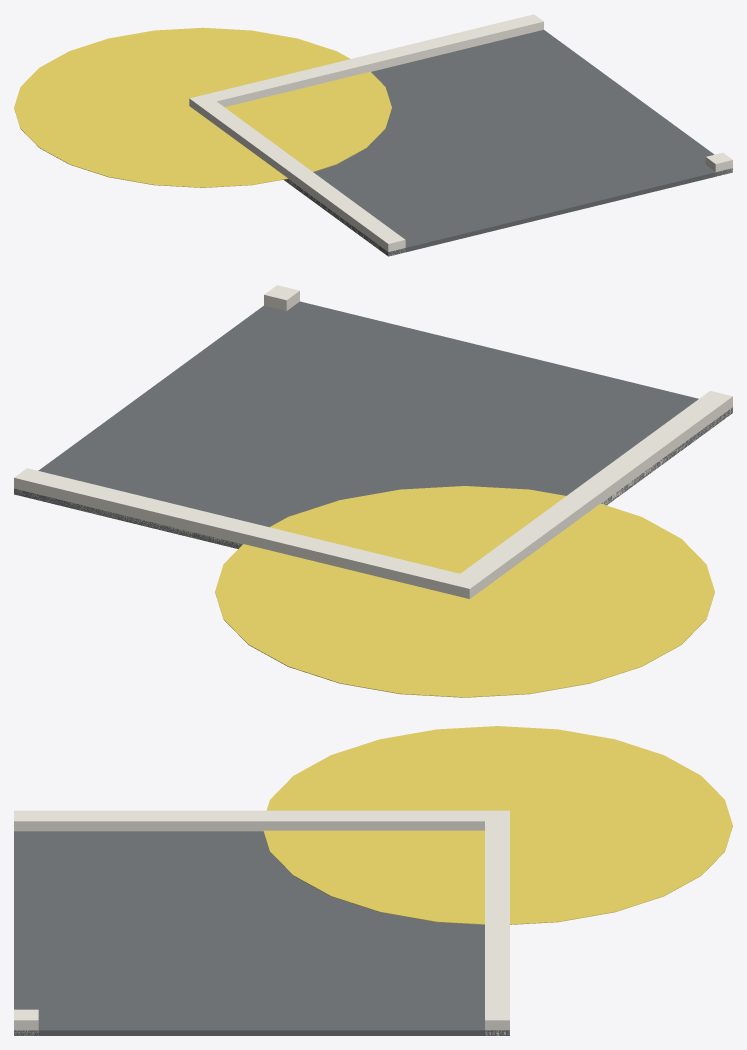
File: ModularRoad_Corner.fbx
3 views of the same model, one above another, from view 1: azimuth 30°, elevation 25°; view 2: azimuth 150°, elevation 25°; view 3: azimuth 270°, elevation 25° (orthographic). The views are drawn at different scales.
Parts seen in each view (by area): view 1: Corner_Surface, Yellow_Curve, Curb_Outer_Y, Curb_Outer_X, Curb_Inner; view 2: Corner_Surface, Yellow_Curve, Curb_Outer_Y, Curb_Outer_X, Curb_Inner; view 3: Corner_Surface, Yellow_Curve, Curb_Outer_X, Curb_Outer_Y, Curb_Inner.
Part boxes in pixels (bbox=[...]): Corner_Surface: bbox=[284, 30, 732, 256]; Yellow_Curve: bbox=[14, 27, 391, 187]; Curb_Outer_Y: bbox=[190, 14, 543, 107]; Curb_Outer_X: bbox=[189, 95, 405, 256]; Curb_Inner: bbox=[705, 152, 732, 176]; Corner_Surface: bbox=[14, 301, 732, 548]; Yellow_Curve: bbox=[215, 486, 714, 697]; Curb_Outer_Y: bbox=[14, 468, 482, 598]; Curb_Outer_X: bbox=[447, 391, 732, 598]; Curb_Inner: bbox=[264, 285, 299, 310]; Corner_Surface: bbox=[14, 831, 509, 1035]; Yellow_Curve: bbox=[263, 726, 732, 924]; Curb_Outer_X: bbox=[14, 810, 509, 831]; Curb_Outer_Y: bbox=[485, 810, 509, 1035]; Curb_Inner: bbox=[14, 1009, 38, 1035].
Bounding box in the file's own units: 580 × 14 × 580.
